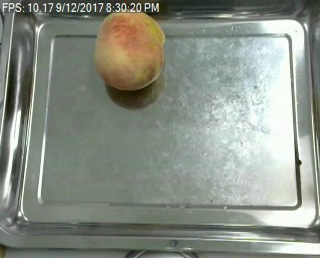Peach: (93, 7, 166, 90)
